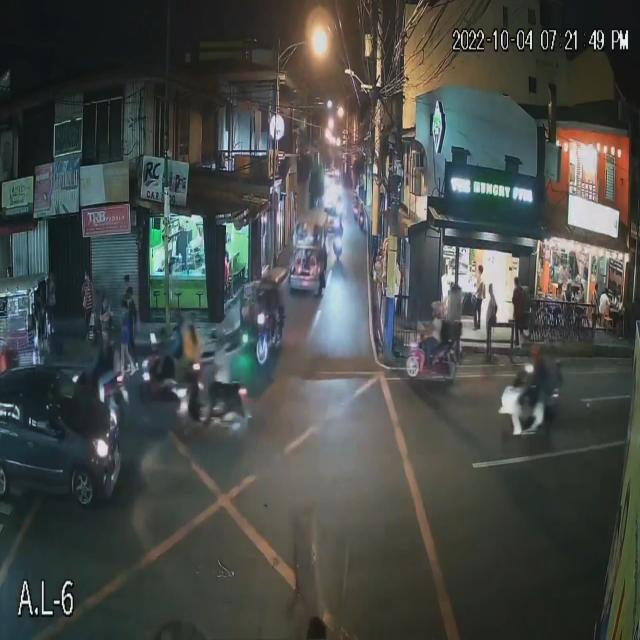Full-Faced: (429, 297, 445, 320)
